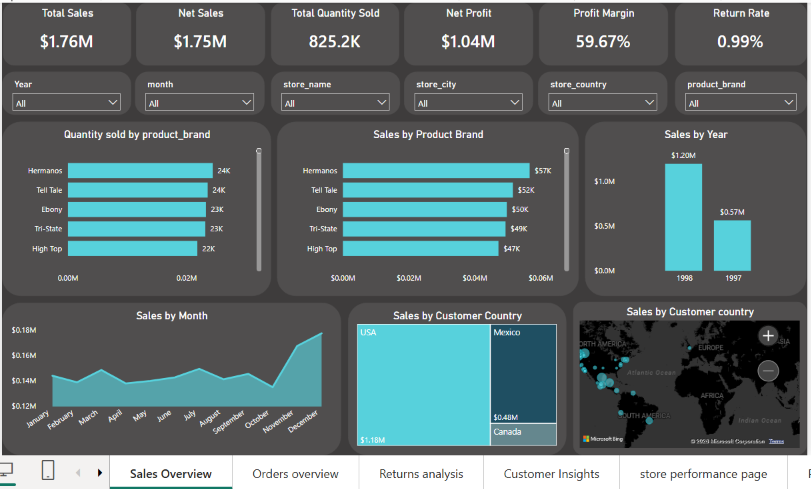

The dashboard page shown, as its layout file describes it:
{"tool":"powerbi","page":{"name":"Sales Overview","canvas":[1280,720],"ordinal":0},"visuals":[{"type":"cardVisual","title":"Total Quantity Sold","fields":{"Data":["Measures (2).Total quantity sold"]},"box":[428.3,0,203.9,100.1],"z":0},{"type":"cardVisual","title":"Total Sales","fields":{"Data":["Measures (2).Measure"]},"box":[1.2,0,203.9,100.1],"z":1000},{"type":"cardVisual","title":"Net Sales","fields":{"Data":["Measures (2).Net sales"]},"box":[213.5,0,205.1,100.1],"z":2000},{"type":"cardVisual","title":"Net Profit ","fields":{"Data":["Measures (2).net profit"]},"box":[639.4,0,205.1,100.1],"z":3000},{"type":"cardVisual","title":"Profit Margin","fields":{"Data":["Measures (2).profit margin %"]},"box":[854.2,0,205.1,100.1],"z":4000},{"type":"barChart","title":"Sales by Product Brand","fields":{"Y":["Measures (2).Total sales"],"Category":["Products.product_brand","Products.product_name"]},"box":[437.9,189.4,480.2,277.5],"z":5000},{"type":"clusteredColumnChart","title":"Sales by Year","fields":{"Category":["calendar.year"],"Y":["Measures (2).Total sales"]},"box":[927.8,189.4,352.3,277.5],"z":6000},{"type":"treemap","title":"Sales by Customer Country","fields":{"Group":["Customers.customer_country"],"Values":["Measures (2).Gross sales"]},"box":[550.3,477.5,347.2,242.9],"z":7000},{"type":"cardVisual","title":"Return Rate","fields":{"Data":["Measures (2).Quantity return rate%"]},"box":[1070.1,0,209.9,100.1],"z":8000},{"type":"lineChart","title":"Sales by Month","fields":{"Category":["calendar.month","calendar.year"],"Y":["Measures (2).Total sales"]},"box":[0,477.8,539.3,242.5],"z":9000},{"type":"barChart","fields":{"Y":["Measures (2).Total quantity sold"],"Category":["Products.product_brand","Products.product_name"]},"box":[0,189.4,428.3,277.5],"z":10000},{"type":"map","title":"Sales by Customer country","fields":{"Category":["Customers.customer_city"],"Size":["Measures (2).Total sales"]},"box":[908.4,476.2,371.9,244.3],"z":11000},{"type":"slicer","fields":{"Values":["Stores.store_name"]},"box":[428.3,109.8,205.1,68.8],"z":12000},{"type":"slicer","fields":{"Values":["calendar.year"]},"box":[0,109.8,205.1,68.8],"z":13000},{"type":"slicer","fields":{"Values":["Stores.store_country"]},"box":[853,109.8,206.3,68.8],"z":14000},{"type":"slicer","fields":{"Values":["Stores.store_city"]},"box":[639.4,109.8,205.1,68.8],"z":15000},{"type":"slicer","fields":{"Values":["calendar.month"]},"box":[212.3,109.8,206.3,68.8],"z":16000},{"type":"slicer","fields":{"Values":["Products.product_brand"]},"box":[1070.1,109.8,209.9,68.8],"z":17000}]}

Visuals, with their boxes on the page's 1280x720 design canvas (x1, y1, x2, y2). These are canvas units, not pixel positions in the 811x490 screenshot, which may show the page scaled, cropped or inside an application window:
"Total Quantity Sold" cardVisual: region(428, 0, 632, 100)
"Total Sales" cardVisual: region(1, 0, 205, 100)
"Net Sales" cardVisual: region(214, 0, 419, 100)
"Net Profit " cardVisual: region(639, 0, 844, 100)
"Profit Margin" cardVisual: region(854, 0, 1059, 100)
"Sales by Product Brand" barChart: region(438, 189, 918, 467)
"Sales by Year" clusteredColumnChart: region(928, 189, 1280, 467)
"Sales by Customer Country" treemap: region(550, 478, 898, 720)
"Return Rate" cardVisual: region(1070, 0, 1280, 100)
"Sales by Month" lineChart: region(0, 478, 539, 720)
barChart - Measures (2).Total quantity sold x Products.product_brand: region(0, 189, 428, 467)
"Sales by Customer country" map: region(908, 476, 1280, 720)
slicer - Stores.store_name: region(428, 110, 633, 179)
slicer - calendar.year: region(0, 110, 205, 179)
slicer - Stores.store_country: region(853, 110, 1059, 179)
slicer - Stores.store_city: region(639, 110, 844, 179)
slicer - calendar.month: region(212, 110, 419, 179)
slicer - Products.product_brand: region(1070, 110, 1280, 179)
